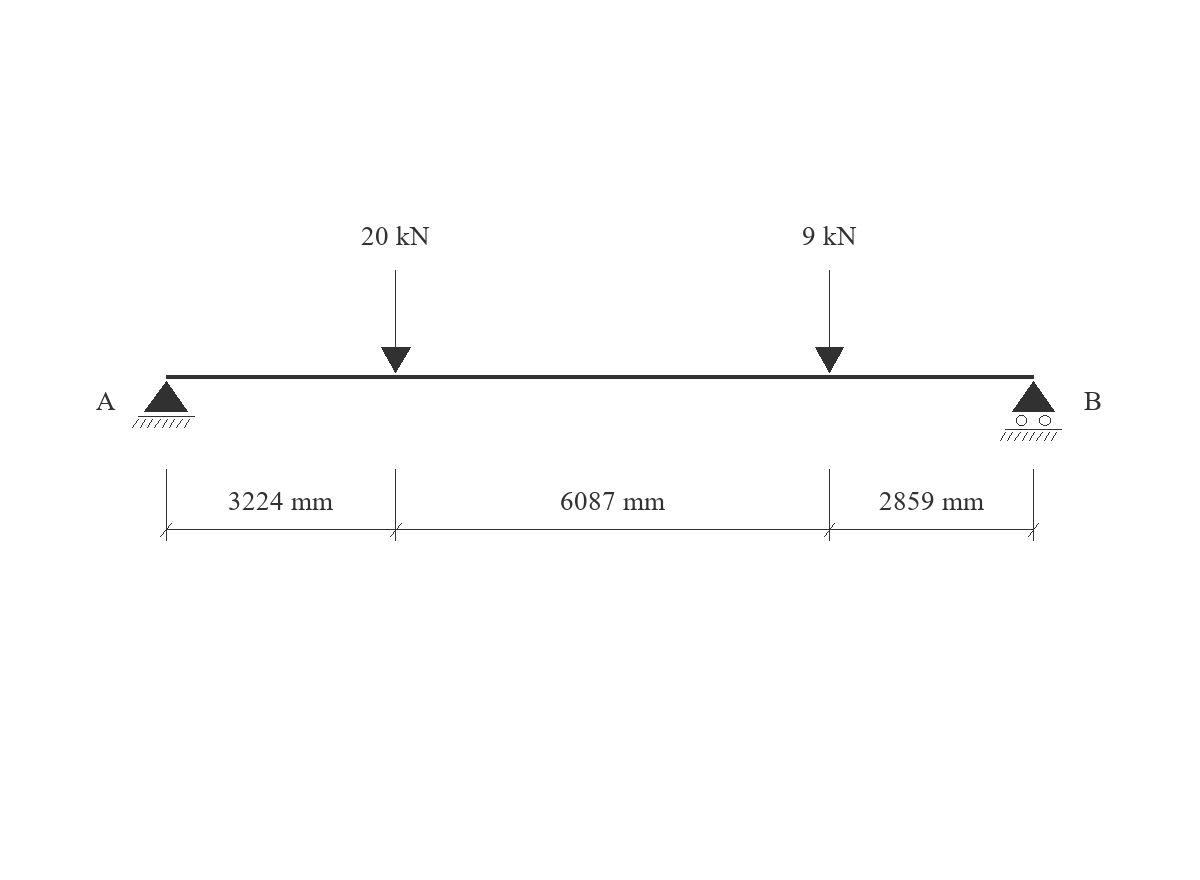pin_support: (132, 381, 195, 428)
point_load: (381, 270, 411, 373), (815, 270, 844, 373)
roller_support: (1000, 381, 1062, 441)
